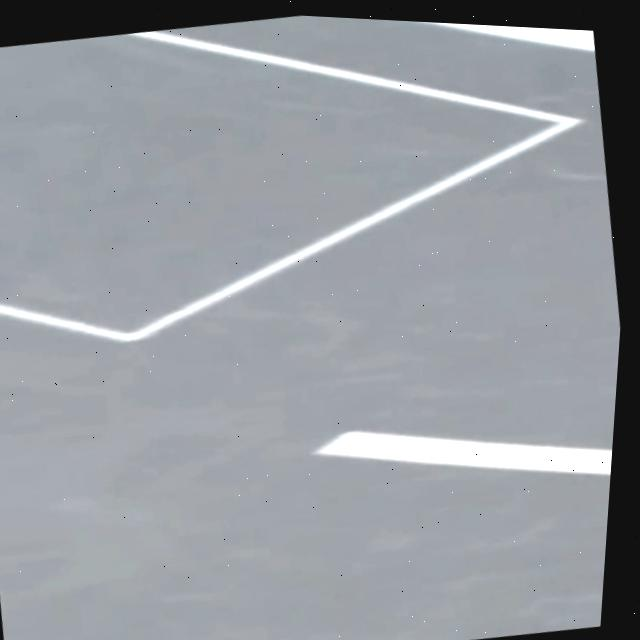center: (315, 430, 612, 473)
left: (436, 23, 595, 49)
